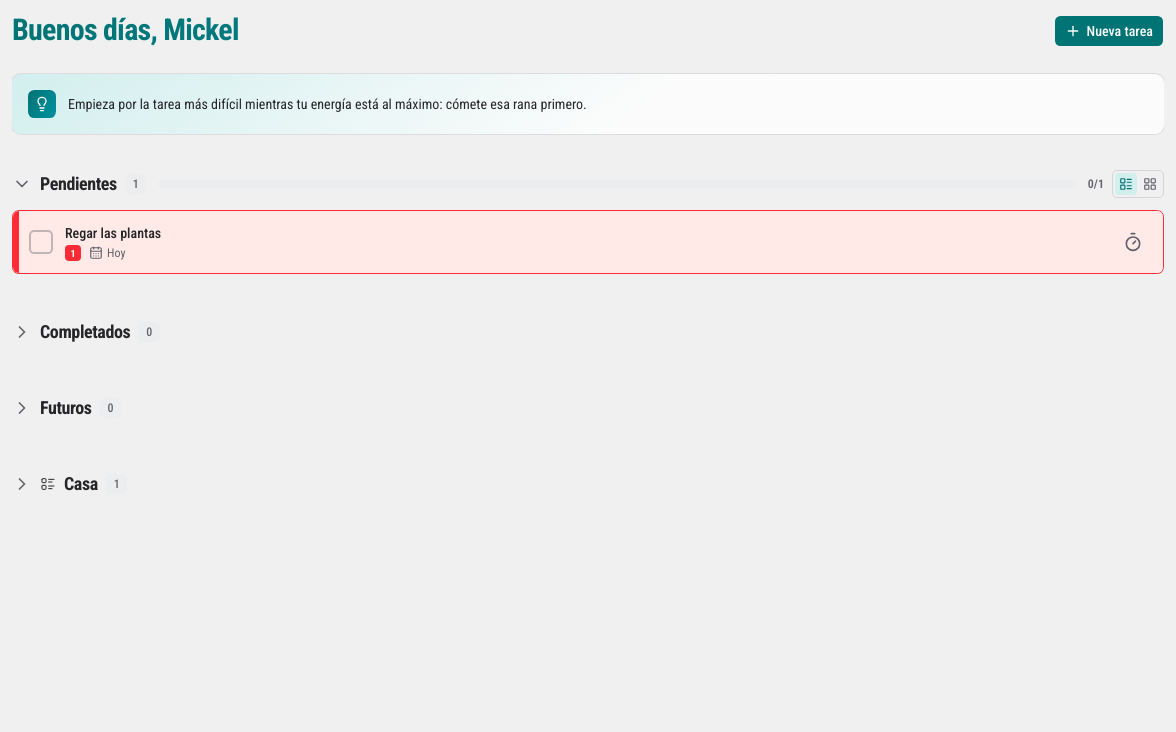
Test: Completadas en el home › una tarea cerrada aparece en Completadas al instante y no en Pendientes
Click the button with test id "status-button": (41, 242) [29, 230, 53, 254]
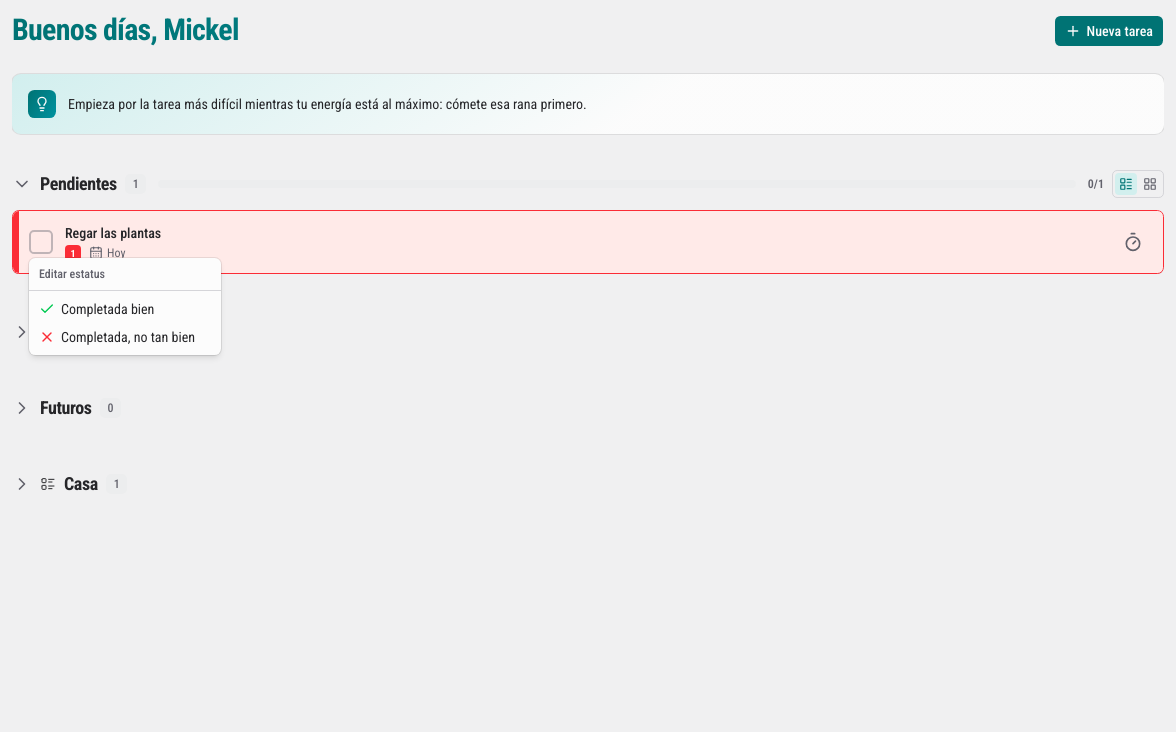
Click the menu item with test id "status-yes": (97, 309) [39, 301, 154, 317]
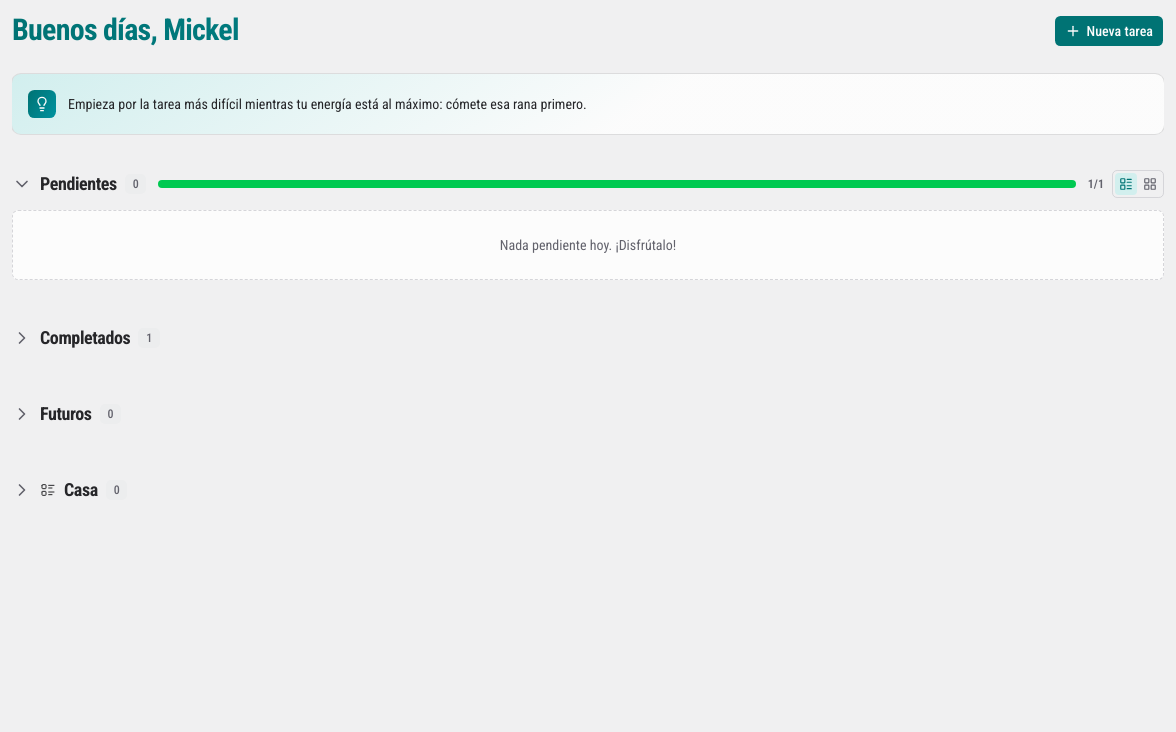
Now the text "1" is shown, box [138, 328, 160, 348]
Now the button "Regar las plantas" is gone
Click the button with test id "section-completed": (86, 338) [12, 312, 160, 364]
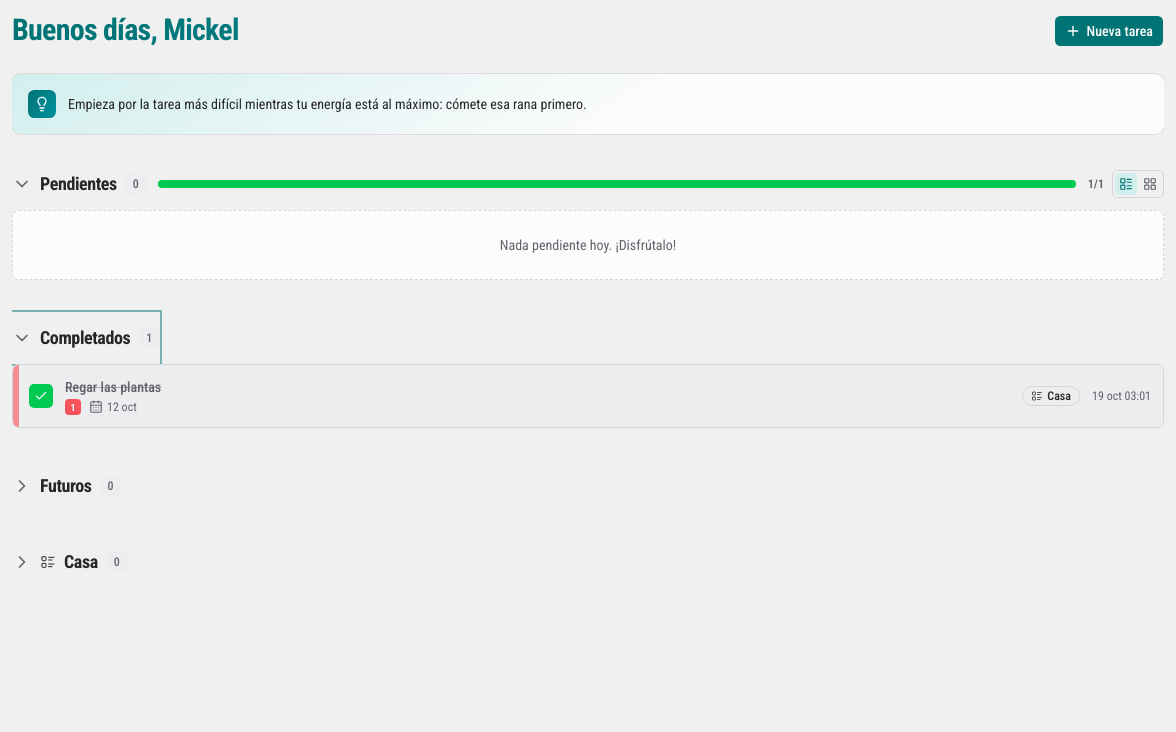
Now the text "Regar las plantas" is shown once, box [65, 379, 161, 395]
